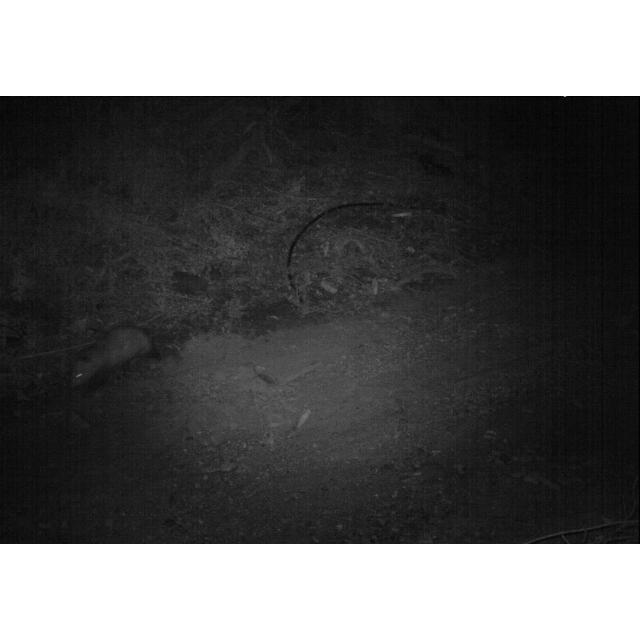animals: (66, 321, 156, 391)
